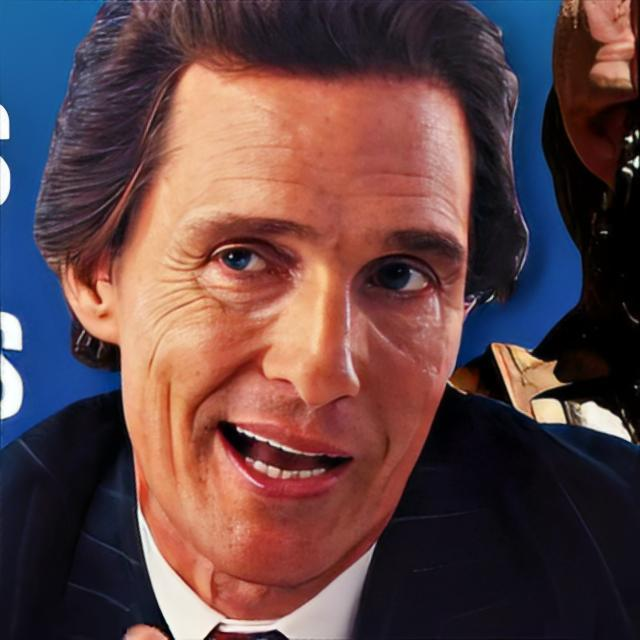happy: (121, 61, 467, 584)
